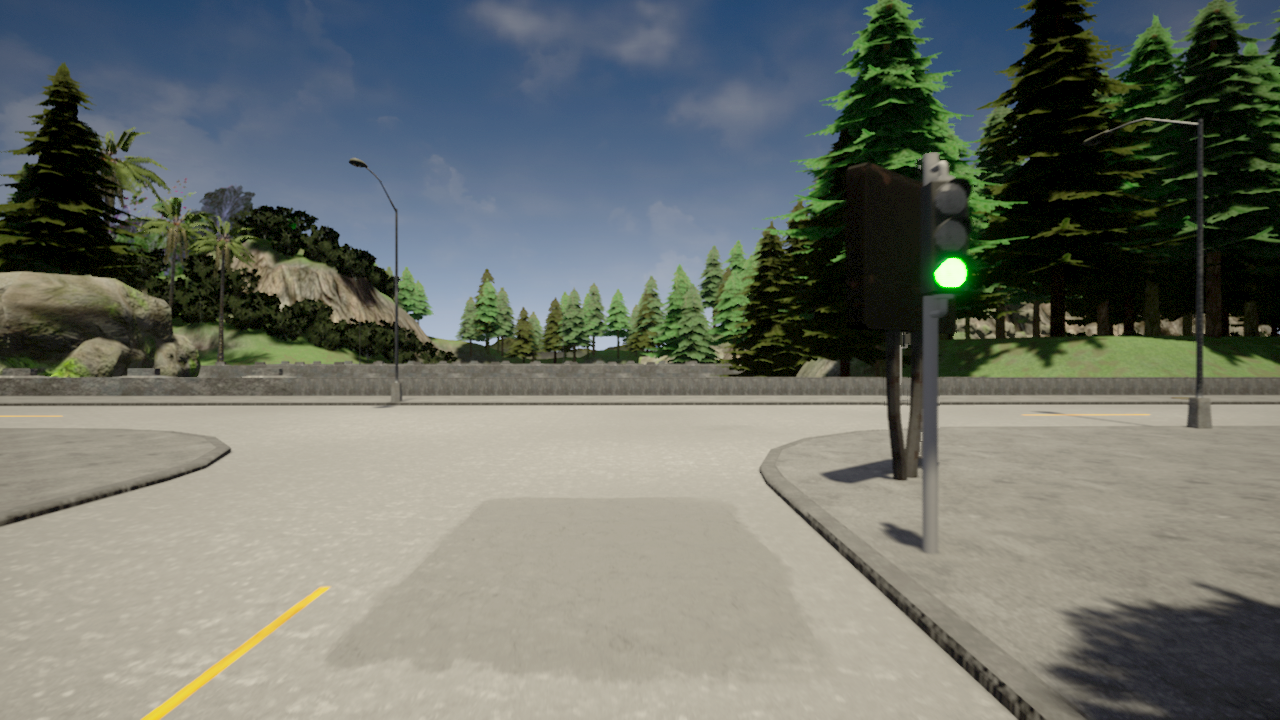green: (918, 176, 976, 297)
